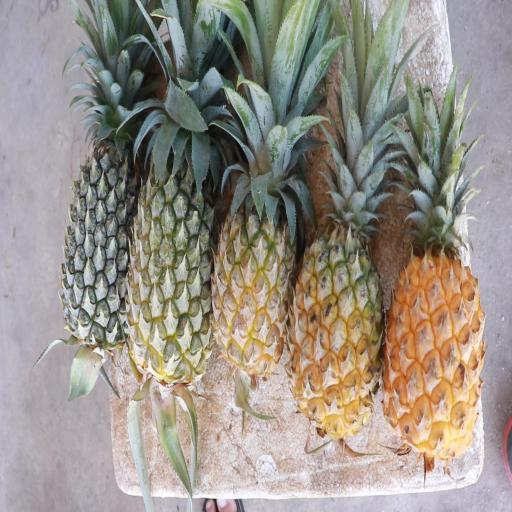------------------------------: (130, 106, 214, 384)
Pineapple - v8 v1: (386, 200, 480, 446), (291, 190, 381, 428), (210, 150, 296, 370)
